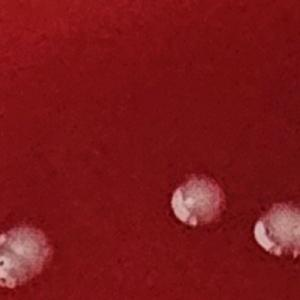colony: (0, 223, 60, 291), (168, 168, 230, 231), (251, 197, 300, 263), (0, 242, 38, 300)
